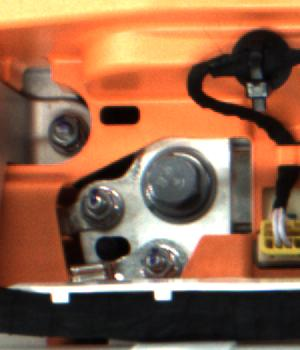nut_b: (136, 148, 217, 216)
screw_s: (41, 110, 82, 153), (138, 244, 177, 280), (79, 187, 115, 221)
